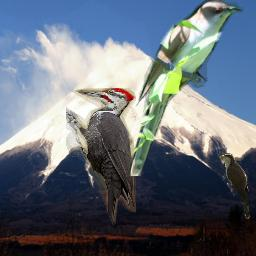Cuckoo: (129, 0, 244, 176), (218, 153, 251, 219)
Woodpecker: (66, 88, 136, 225)
